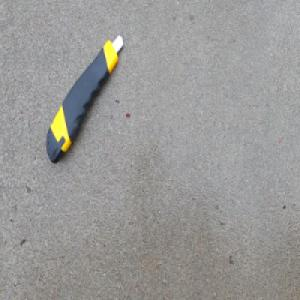Cutter: (46, 32, 126, 164)
